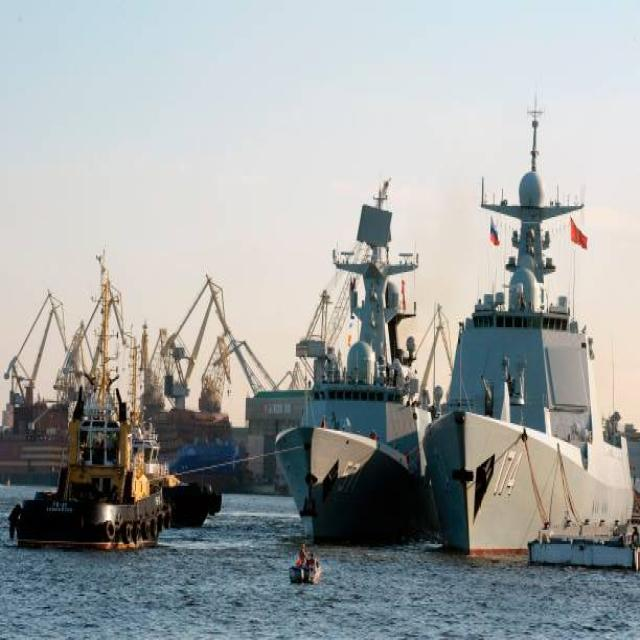Military: (424, 120, 635, 563), (275, 256, 432, 538), (358, 178, 392, 248)
